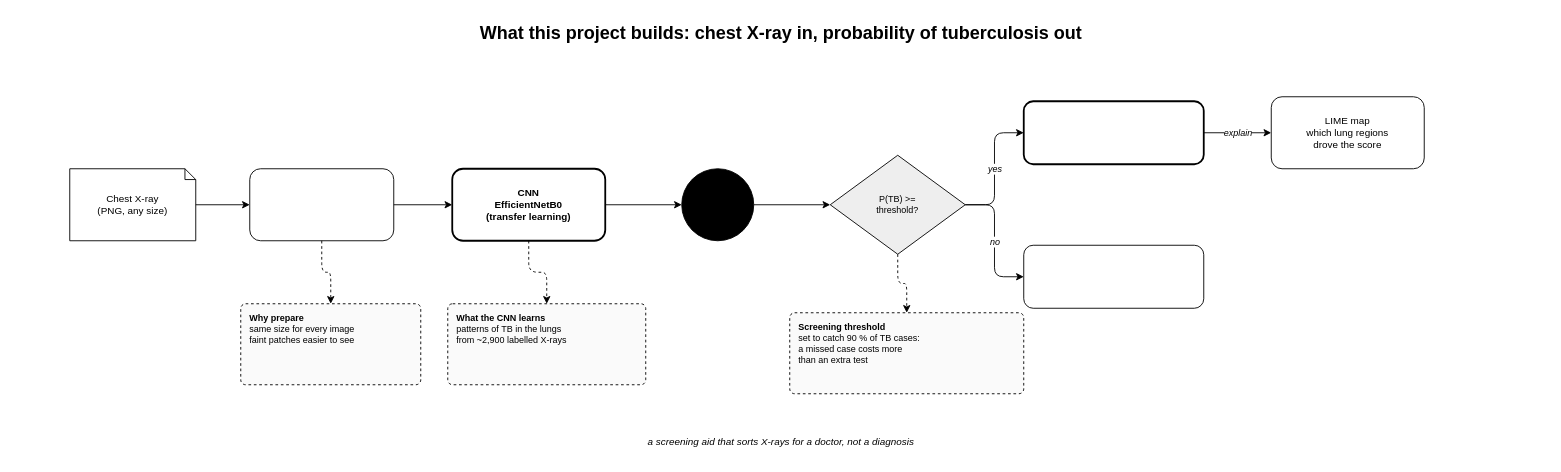
Some shapes in this 1561 by 472 pixel diagram are drawn without their labels. Here are the shapes that lost their labels. From the top down, the centre of each, then its label:
[1113,132]: Flag: possible TB -> sputum test / doctor
[321,204]: Prepare grayscale 224 x 224 + CLAHE contrast
[717,204]: P(TB)
[1113,276]: Looks normal -> routine care
